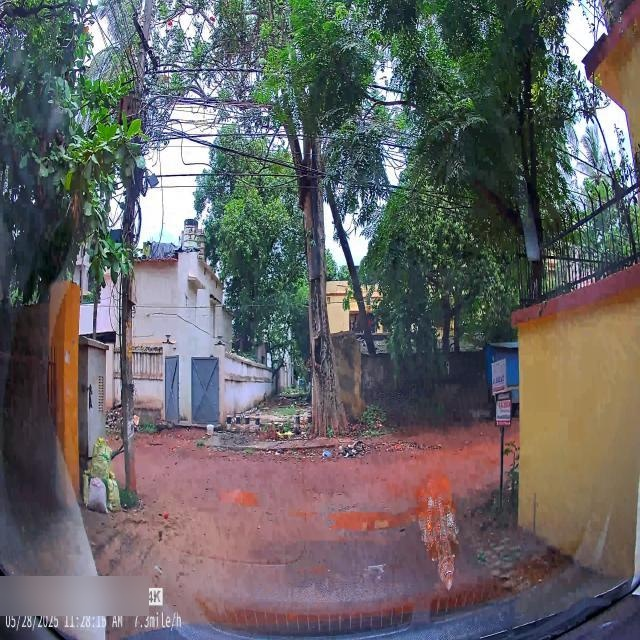pothole: (318, 504, 428, 536), (411, 447, 484, 466), (213, 486, 256, 510), (293, 564, 329, 580), (292, 501, 314, 521), (383, 477, 406, 495), (285, 609, 301, 620), (272, 523, 282, 531)
